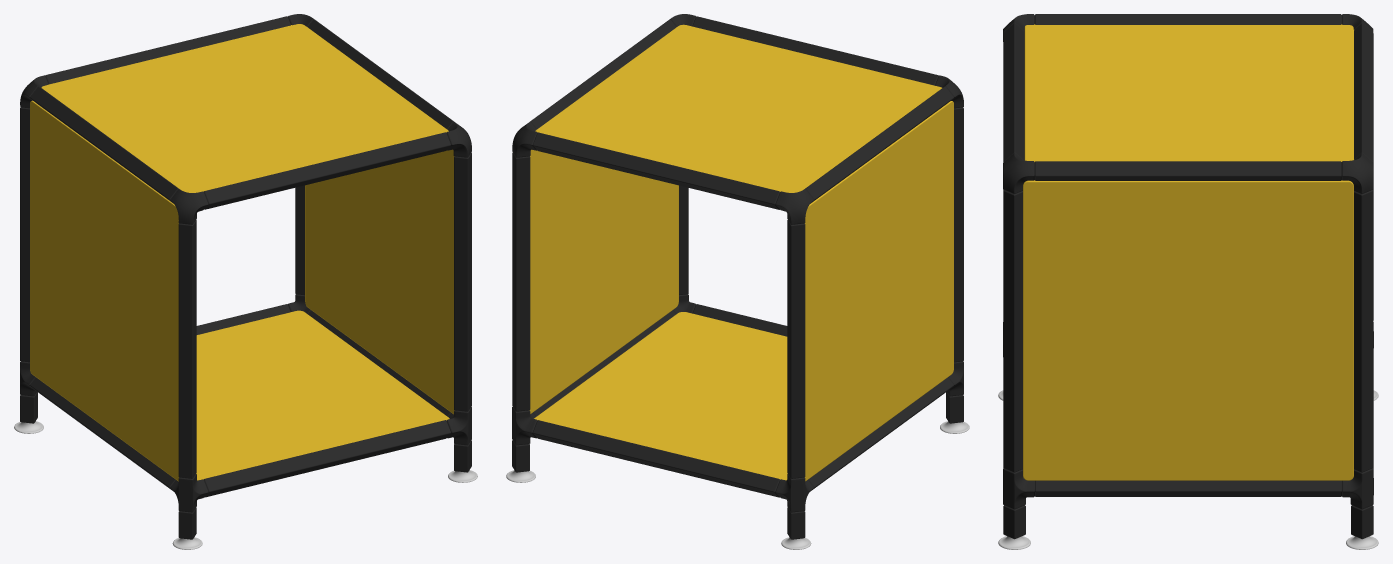
3 renders of one model, left to right at view 1: azimuth 30°, elevation 25°; view 2: azimuth 150°, elevation 25°; view 3: azimuth 270°, elevation 25°, orthographic. The views are drawn at different scales.
Visible parts, largest first — view 1: 374x374x374; view 2: 374x374x374; view 3: 374x374x374.
Boxes of the visible parts, x1,y1,x2,y2 form: 374x374x374: [14, 14, 477, 549]; 374x374x374: [506, 14, 969, 549]; 374x374x374: [998, 14, 1378, 549].
Size of the model in its own units: 0.4639 by 0.5133 by 0.4632.
